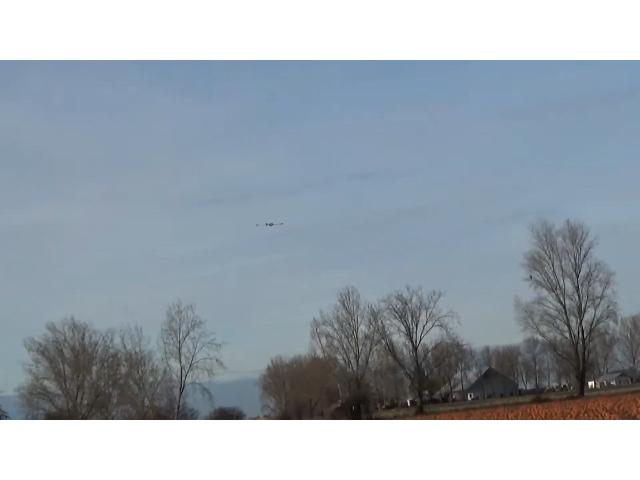Anti-Drone: (256, 222, 284, 226)
